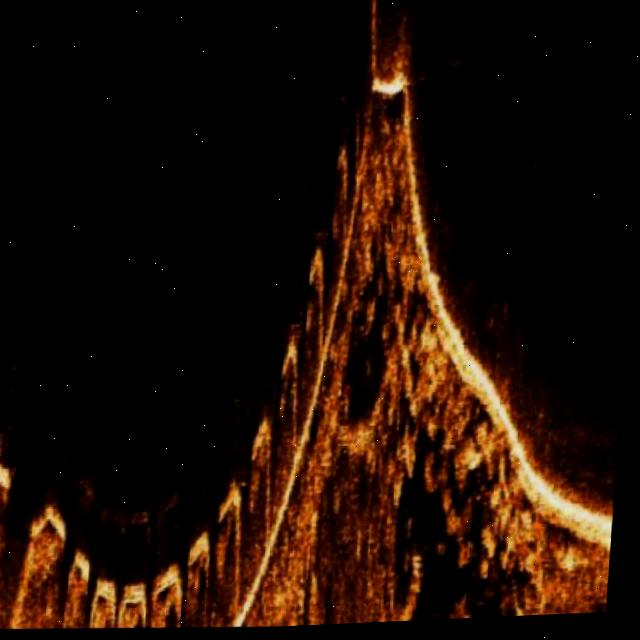bedrock group: (330, 97, 637, 628)
